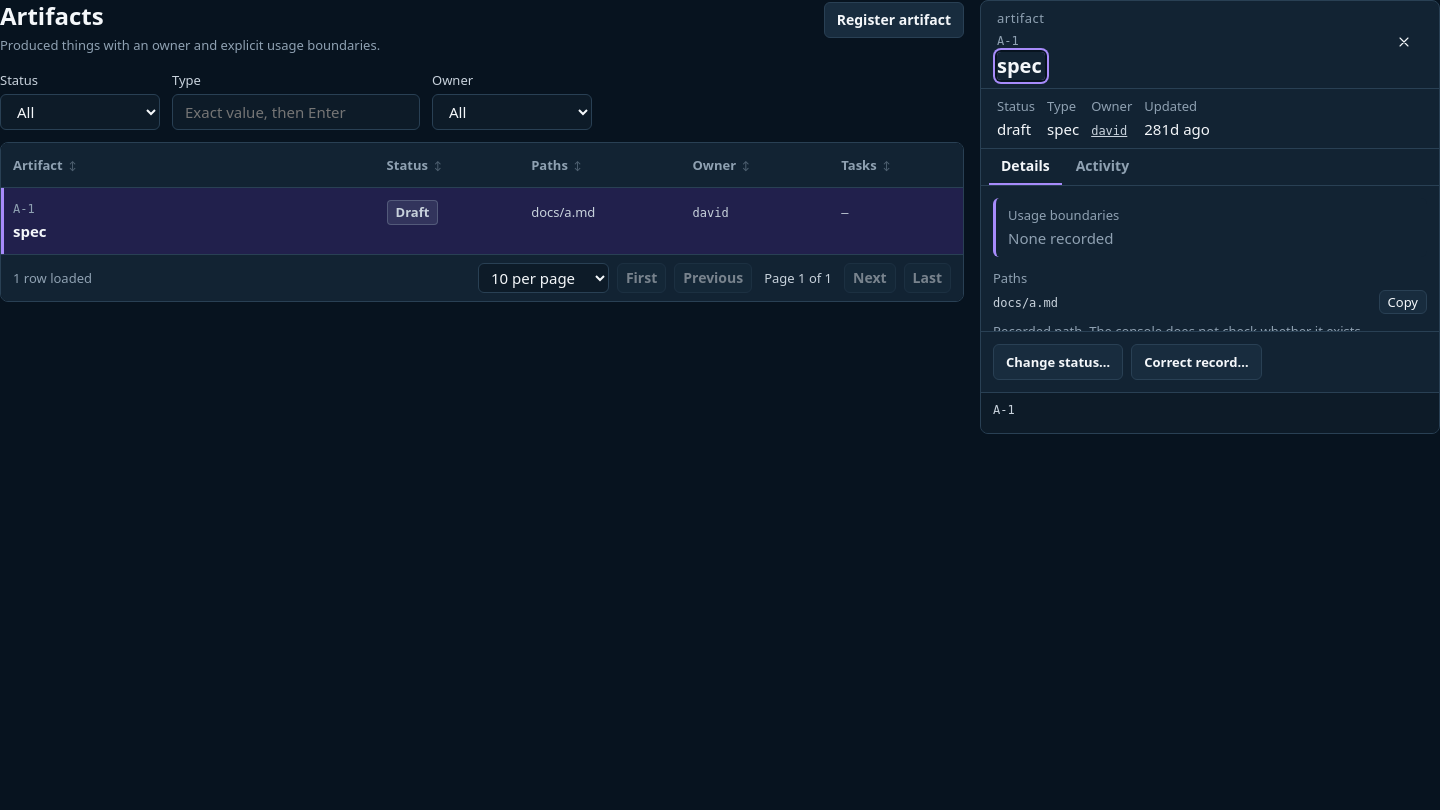
Scenario: the artifact correction dialog › returns focus to its opener after Cancel
Step 1. Click the button "Correct record…" → (1196, 362), box [1131,344,1262,380]
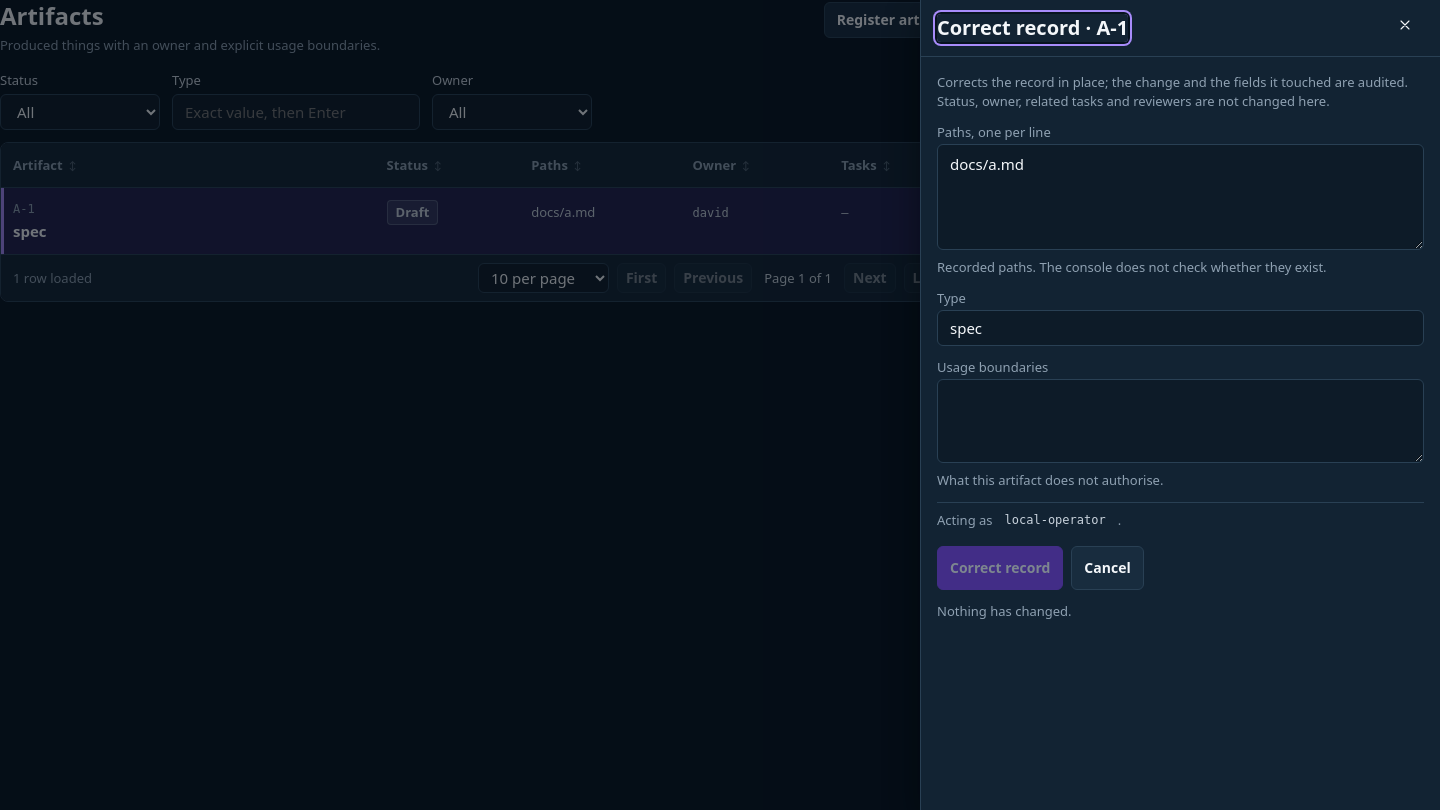
Step 2. Click the button "Cancel" → (1108, 568), box [1071,546,1144,590]
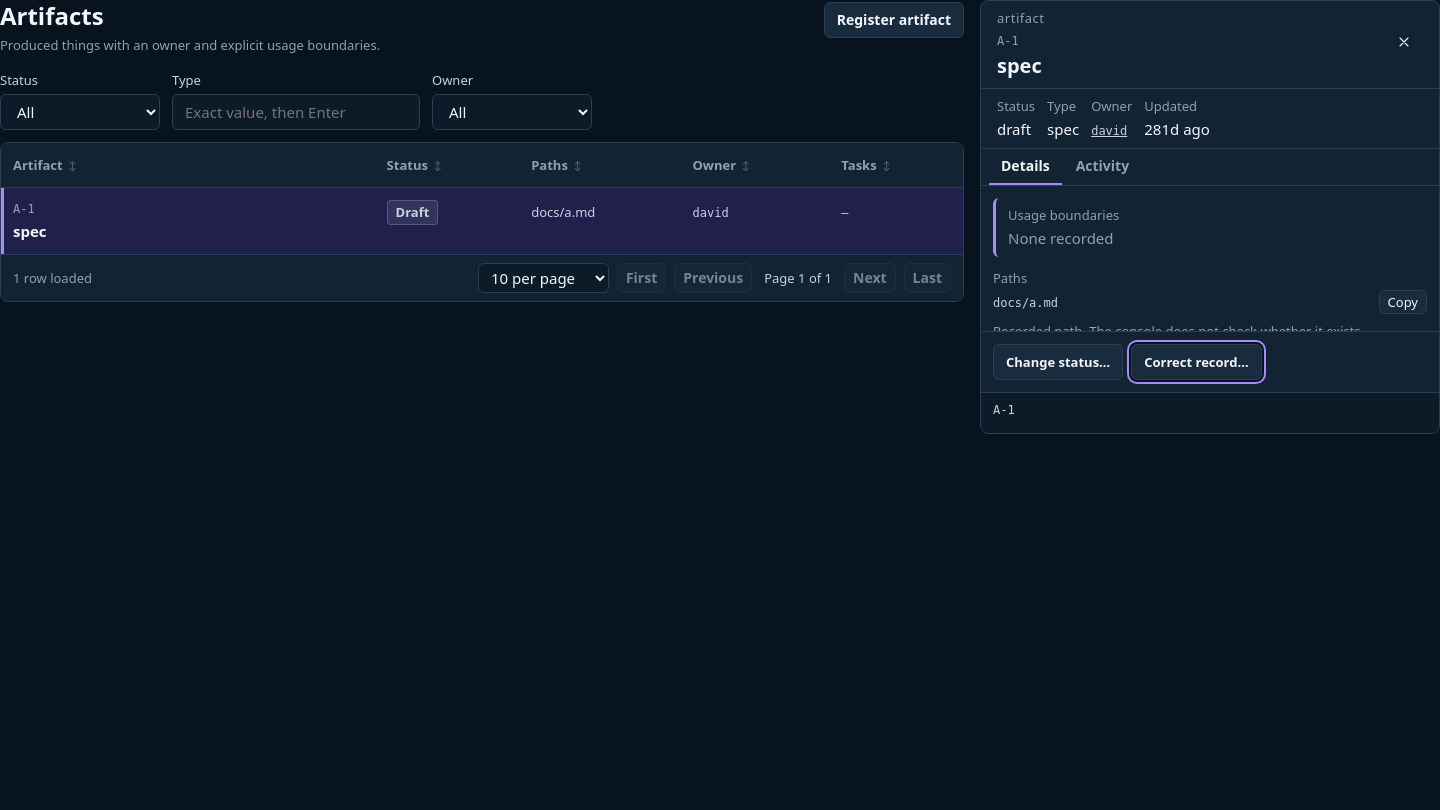
Now the dialog is gone
